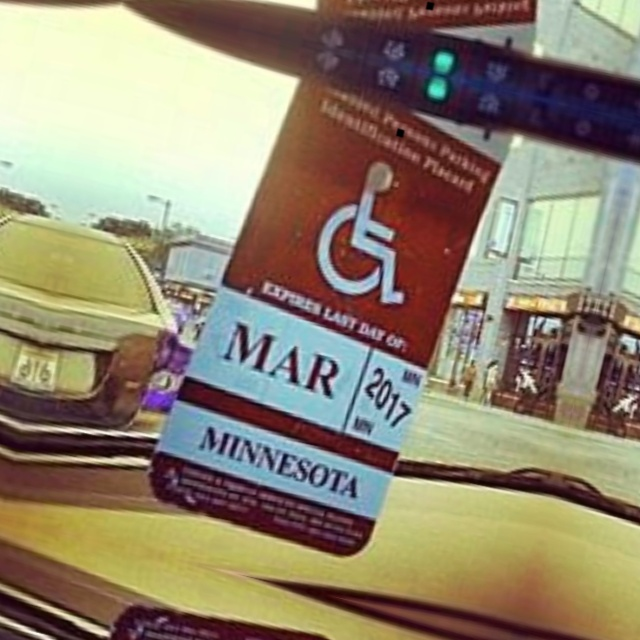ISA: (307, 144, 439, 309)
